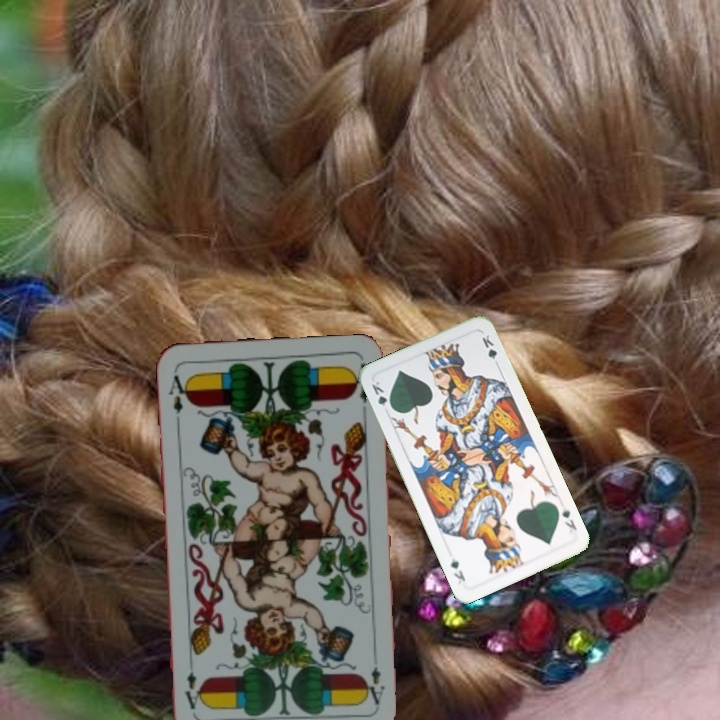EA: (361, 649, 387, 707), (164, 366, 191, 416)
GK: (368, 377, 396, 413), (558, 503, 579, 536)
